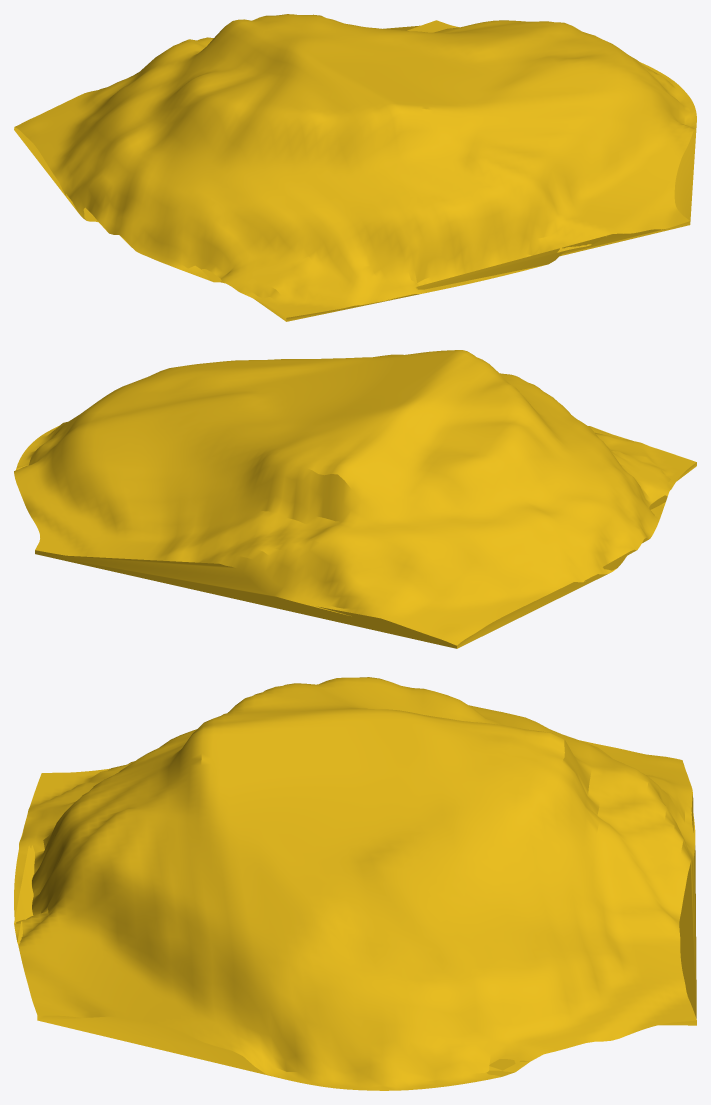
File: Sera.fbx
The picture shows the model from 3 angles, top to bottom: view 1: azimuth 30°, elevation 25°; view 2: azimuth 150°, elevation 25°; view 3: azimuth 270°, elevation 25°; orthographic projection. The views are drawn at different scales.
Visible parts, largest first — view 1: Sera.001; view 2: Sera.001; view 3: Sera.001.
Boxes of the visible parts, x1,y1,x2,y2 form: Sera.001: (14, 14, 696, 321); Sera.001: (14, 350, 696, 648); Sera.001: (14, 677, 696, 1090).
Bounding box in the file's own units: 4.98 × 1.04 × 4.04.
